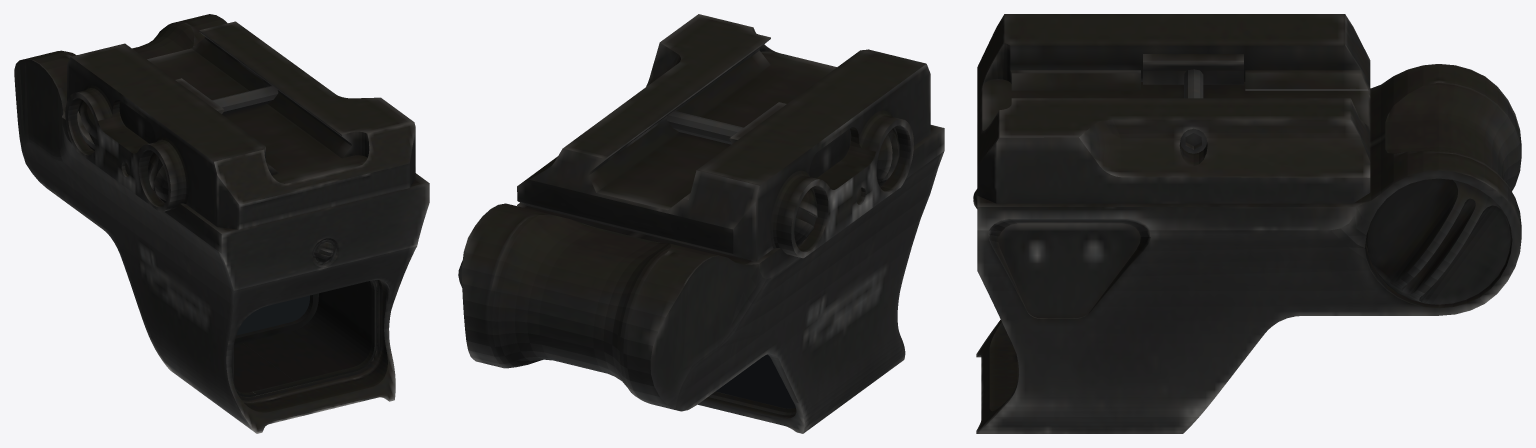
3 views of the same model, side by side, from view 1: azimuth 30°, elevation 25°; view 2: azimuth 150°, elevation 25°; view 3: azimuth 270°, elevation 25° (orthographic). The views are drawn at different scales.
Visible parts, largest first — view 1: TW_64785e7c19d732620e045e15_PZ_Import; view 2: TW_64785e7c19d732620e045e15_PZ_Import; view 3: TW_64785e7c19d732620e045e15_PZ_Import.
Part boxes in pixels (x1,y1,x2,y2): TW_64785e7c19d732620e045e15_PZ_Import: (14,14,429,433); TW_64785e7c19d732620e045e15_PZ_Import: (458,14,944,433); TW_64785e7c19d732620e045e15_PZ_Import: (973,14,1521,433).
Bounding box in the file's own units: 0.0348 × 0.0605 × 0.0392.
1 material, 1 textured.
